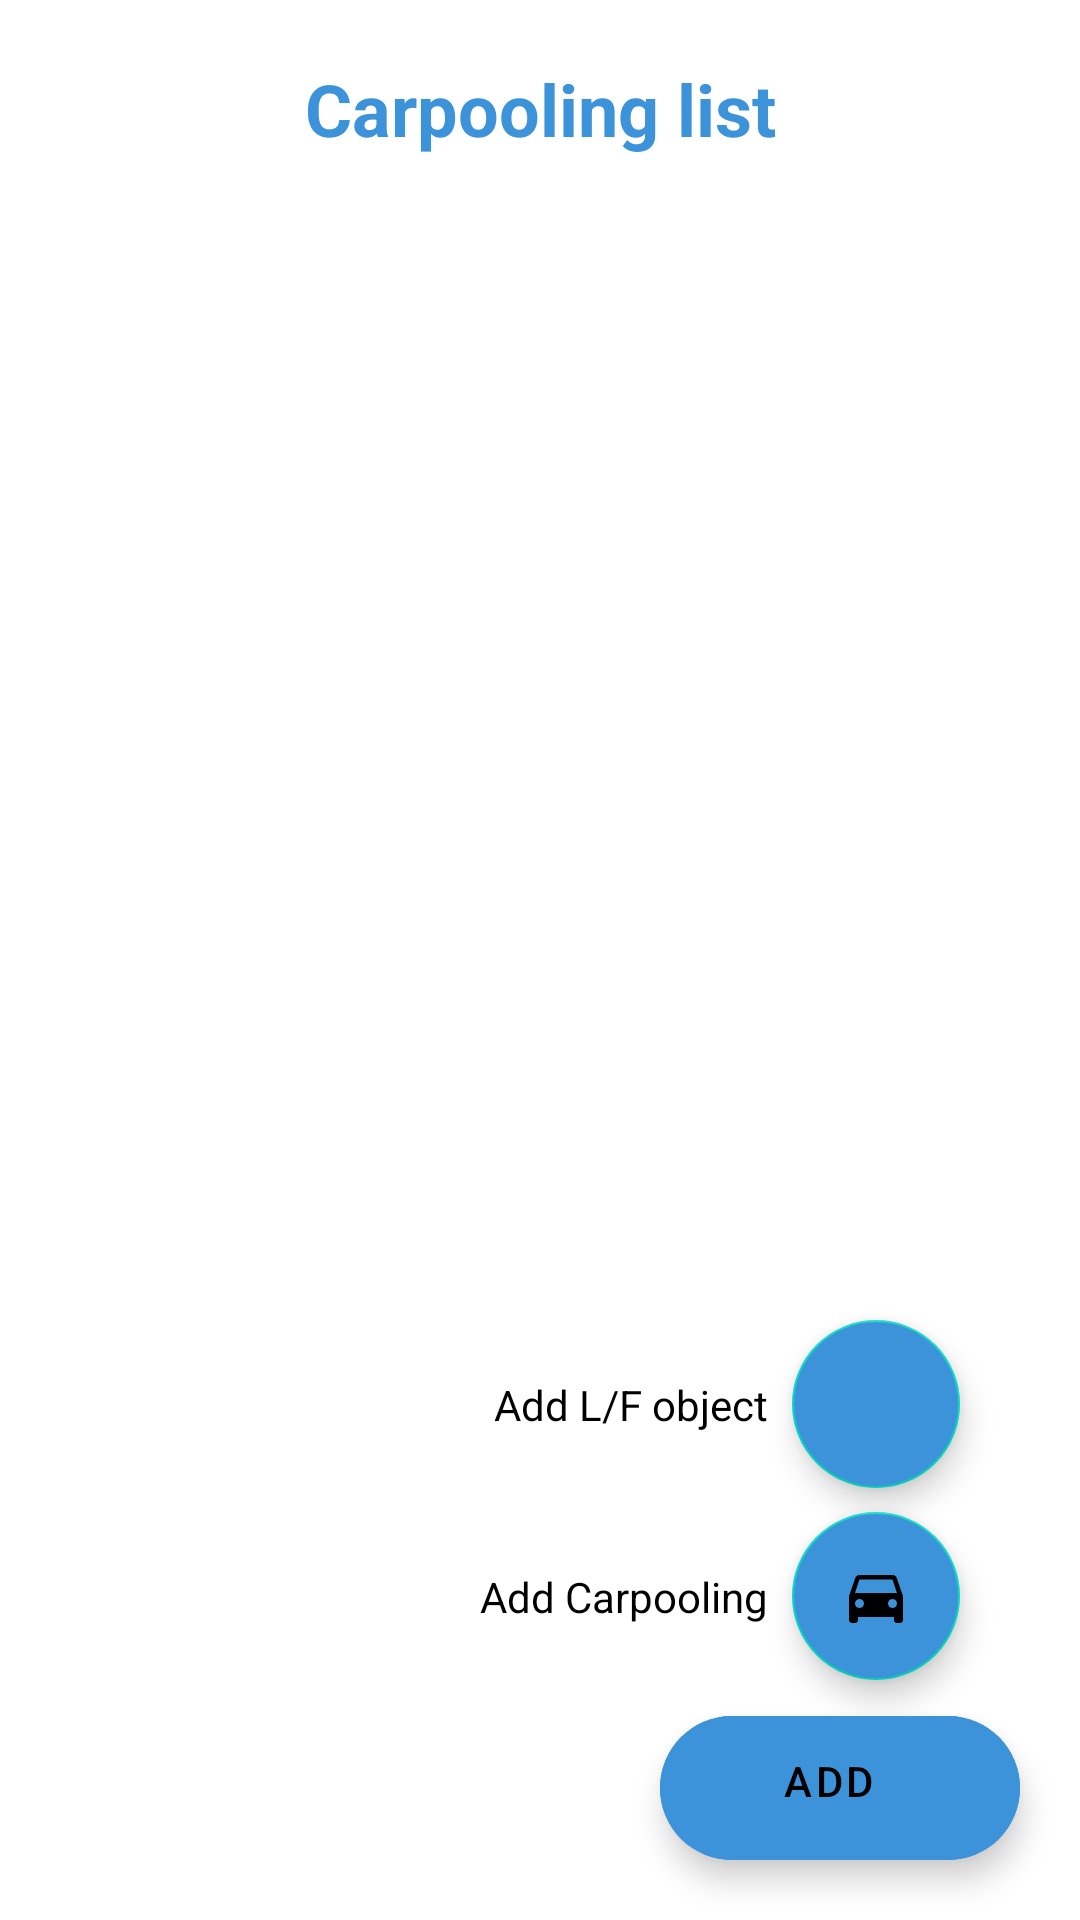

Where icons sit on this 1080px×1920px app screen, as (x1,y1,x2,y2):
car: (792,1512,960,1680)
